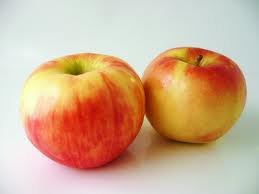apple: (21, 53, 146, 168), (145, 47, 247, 144)
